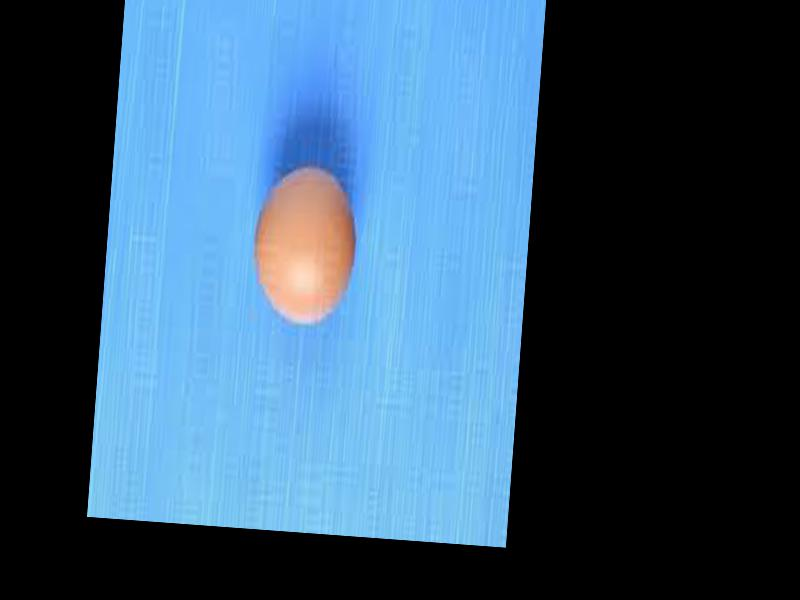Eggs: (249, 158, 360, 330)
